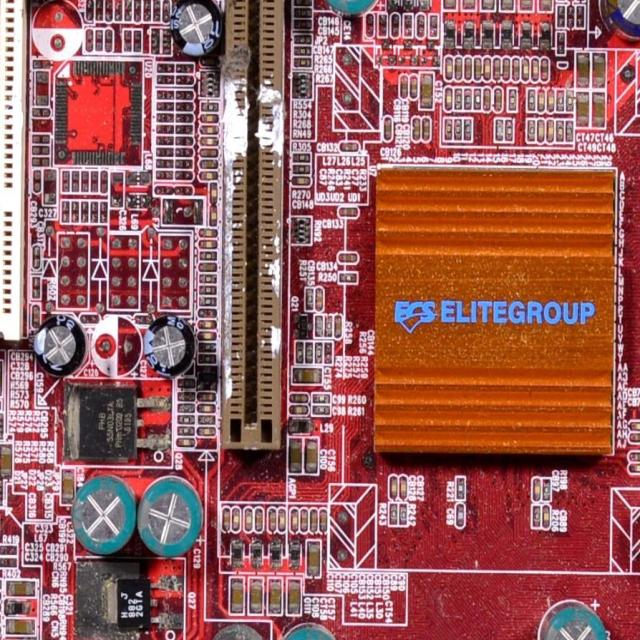IC: (68, 65, 136, 157)
capacitor: (98, 327, 130, 365), (155, 325, 185, 362), (43, 326, 75, 359), (62, 470, 74, 495), (9, 583, 34, 595), (288, 584, 300, 608), (232, 582, 241, 610), (270, 584, 280, 608), (250, 582, 259, 608), (307, 444, 317, 466), (308, 545, 317, 569), (48, 172, 56, 199), (8, 619, 26, 630), (294, 444, 302, 468), (340, 208, 358, 218), (292, 392, 308, 402), (392, 15, 400, 35), (177, 114, 192, 123), (178, 76, 194, 84), (2, 449, 8, 470), (424, 118, 430, 138), (32, 60, 49, 67), (418, 17, 425, 33), (485, 63, 492, 79), (336, 318, 342, 336), (246, 511, 252, 529), (513, 62, 520, 77), (86, 1, 92, 18), (424, 120, 430, 137), (338, 255, 352, 262), (201, 115, 215, 122), (542, 509, 548, 525), (402, 76, 408, 92), (178, 137, 190, 145), (456, 58, 461, 77), (316, 290, 322, 305), (224, 510, 229, 528), (366, 16, 371, 34), (86, 29, 91, 47), (201, 148, 216, 154), (101, 172, 106, 190), (136, 2, 141, 19), (496, 60, 501, 77), (34, 250, 40, 264), (34, 305, 38, 326), (180, 440, 192, 447), (318, 513, 324, 527), (446, 92, 452, 106), (34, 109, 46, 116), (386, 119, 392, 133), (177, 150, 191, 156), (232, 511, 237, 527), (279, 512, 284, 528), (292, 513, 297, 529), (105, 31, 110, 47), (313, 394, 326, 400), (341, 144, 354, 150), (202, 158, 215, 164), (402, 477, 406, 496), (484, 90, 488, 109), (200, 428, 212, 434), (392, 477, 396, 495), (532, 481, 536, 499), (466, 59, 470, 77), (178, 91, 190, 97), (295, 178, 307, 184), (296, 12, 310, 17), (523, 64, 528, 78), (402, 79, 406, 96), (412, 79, 416, 96), (302, 515, 308, 526), (203, 172, 214, 178), (448, 62, 453, 75), (200, 128, 213, 133), (165, 2, 169, 18), (106, 2, 110, 18), (495, 90, 499, 106), (413, 118, 417, 134), (539, 123, 543, 139), (34, 171, 38, 187), (202, 243, 214, 248), (200, 266, 212, 271), (200, 310, 212, 315), (314, 406, 324, 412), (294, 407, 304, 413), (258, 510, 261, 530), (270, 513, 274, 528), (312, 515, 316, 530), (476, 61, 480, 76), (531, 63, 535, 78), (177, 103, 187, 109), (459, 508, 463, 522), (201, 139, 215, 143), (212, 208, 216, 222), (539, 92, 542, 110), (202, 232, 215, 236), (201, 324, 214, 328), (295, 0, 308, 4), (212, 186, 216, 199), (201, 333, 211, 338), (204, 394, 212, 400), (549, 124, 552, 140), (178, 186, 186, 192), (179, 172, 188, 177), (633, 436, 640, 442), (632, 454, 640, 459), (630, 464, 640, 468), (201, 407, 213, 410), (633, 422, 640, 427), (505, 60, 507, 76), (548, 94, 550, 110), (159, 186, 167, 190)
connector: (0, 0, 14, 314)
resistor: (0, 544, 15, 556), (125, 1, 132, 22), (295, 344, 304, 360), (338, 274, 352, 284), (81, 200, 88, 220), (559, 91, 566, 109), (31, 146, 47, 153), (32, 277, 38, 295), (100, 202, 106, 220), (306, 289, 312, 306), (114, 1, 120, 18), (474, 89, 480, 106), (62, 171, 68, 188), (294, 35, 306, 43), (144, 3, 149, 22), (72, 201, 77, 220), (201, 103, 214, 110), (295, 167, 308, 174), (179, 406, 194, 412), (126, 32, 131, 50), (509, 92, 514, 110), (528, 120, 533, 138), (316, 319, 321, 336), (534, 508, 539, 525), (295, 47, 307, 54), (464, 91, 470, 105), (33, 135, 47, 141), (295, 154, 309, 160), (382, 16, 386, 36), (568, 124, 573, 140), (31, 158, 47, 163), (159, 159, 169, 167), (63, 202, 68, 218), (0, 560, 11, 567), (296, 59, 307, 66), (326, 320, 331, 335), (447, 120, 452, 135), (82, 174, 87, 189), (180, 382, 192, 388), (545, 478, 549, 496), (458, 480, 462, 498), (528, 91, 532, 109), (569, 91, 573, 109), (306, 344, 311, 358), (390, 506, 395, 520), (155, 1, 159, 18), (96, 30, 100, 47), (159, 76, 170, 82), (160, 114, 171, 120), (316, 346, 321, 359), (401, 507, 406, 520), (406, 20, 411, 33), (136, 32, 140, 48), (456, 91, 460, 107), (558, 121, 562, 137), (73, 173, 77, 189), (91, 202, 95, 218), (202, 276, 212, 282), (324, 345, 328, 360), (96, 2, 100, 17), (160, 92, 170, 98), (158, 150, 168, 156), (159, 172, 169, 178), (154, 32, 158, 46), (507, 120, 511, 134), (160, 124, 168, 131), (92, 174, 96, 188), (180, 394, 191, 399), (182, 428, 193, 433), (498, 119, 501, 137), (457, 120, 460, 137), (160, 103, 170, 108), (161, 139, 171, 144), (465, 122, 469, 134), (202, 254, 213, 258), (202, 300, 213, 304), (200, 417, 211, 421), (160, 66, 171, 70), (432, 17, 435, 31), (203, 288, 213, 292), (201, 344, 209, 348), (202, 357, 210, 361), (182, 418, 192, 421)
transistor: (69, 388, 129, 450), (104, 583, 150, 630), (297, 313, 309, 336)
